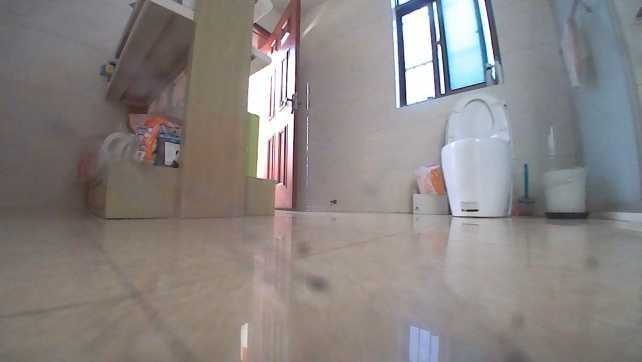door_anno: (254, 0, 303, 210)
toilet: (437, 90, 517, 220)
trash_can: (540, 163, 591, 219)
